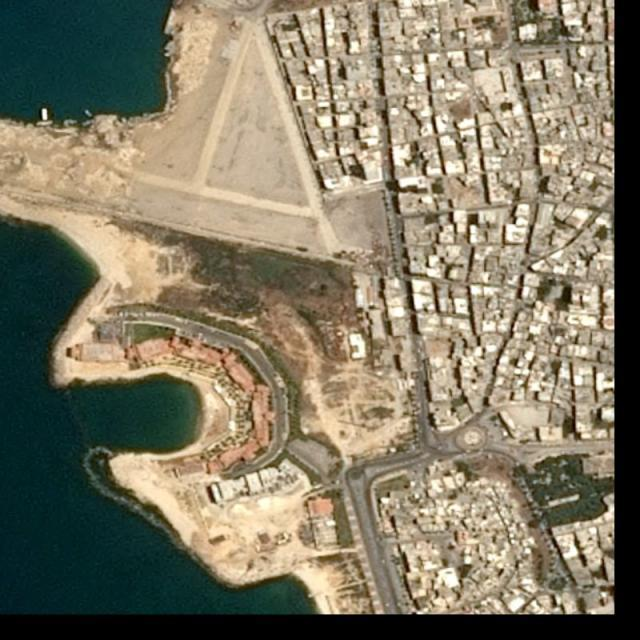ship: (82, 108, 94, 119), (41, 106, 49, 122)
